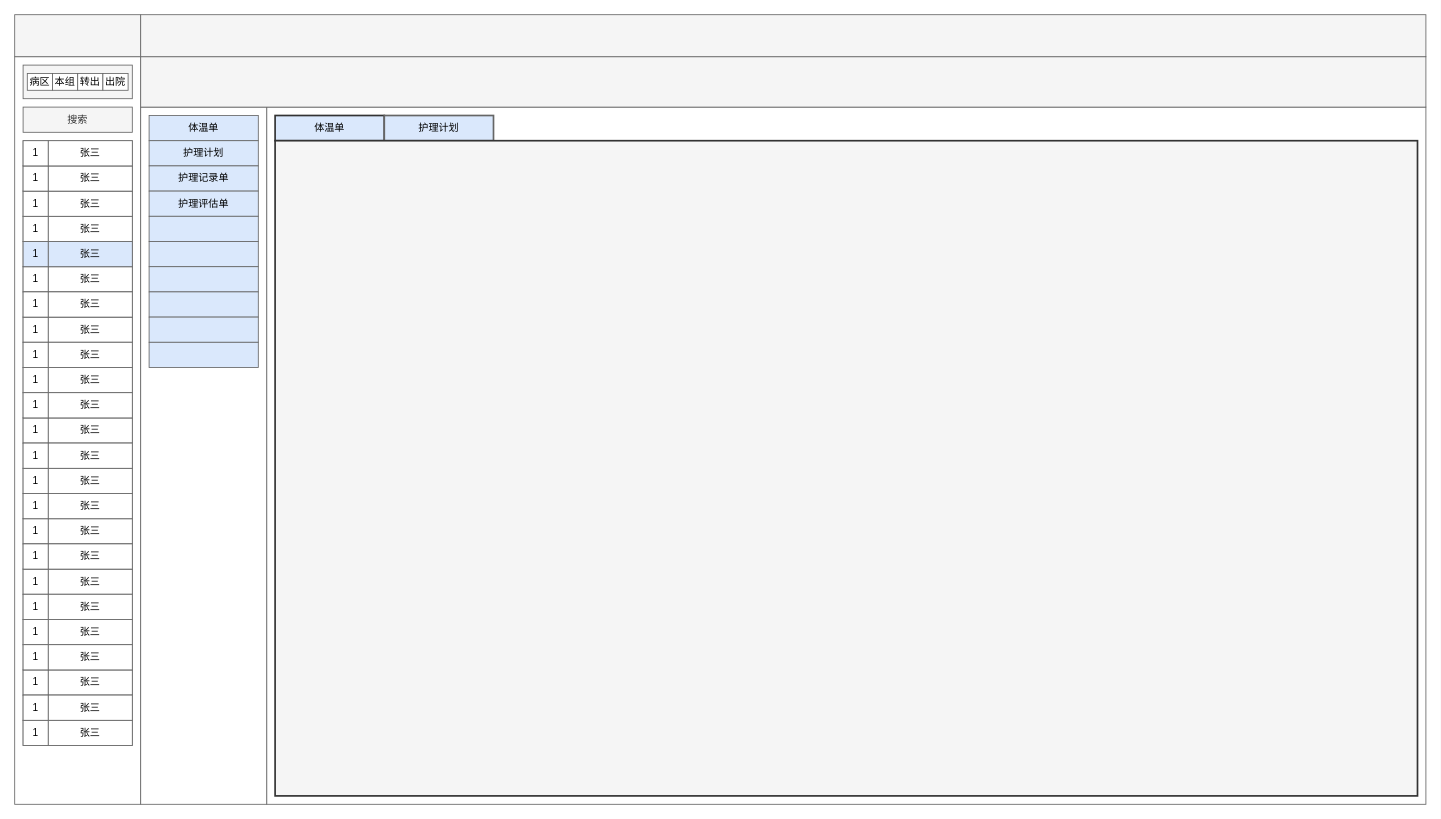
Image size: 1441x819. Some labels were removed from this diagram. Each missing label, with the centre of its shape:
"LOGO" belongs at point (77, 35).
"患者信息栏" belongs at point (783, 81).
"顶部导航栏" belongs at point (783, 35).
